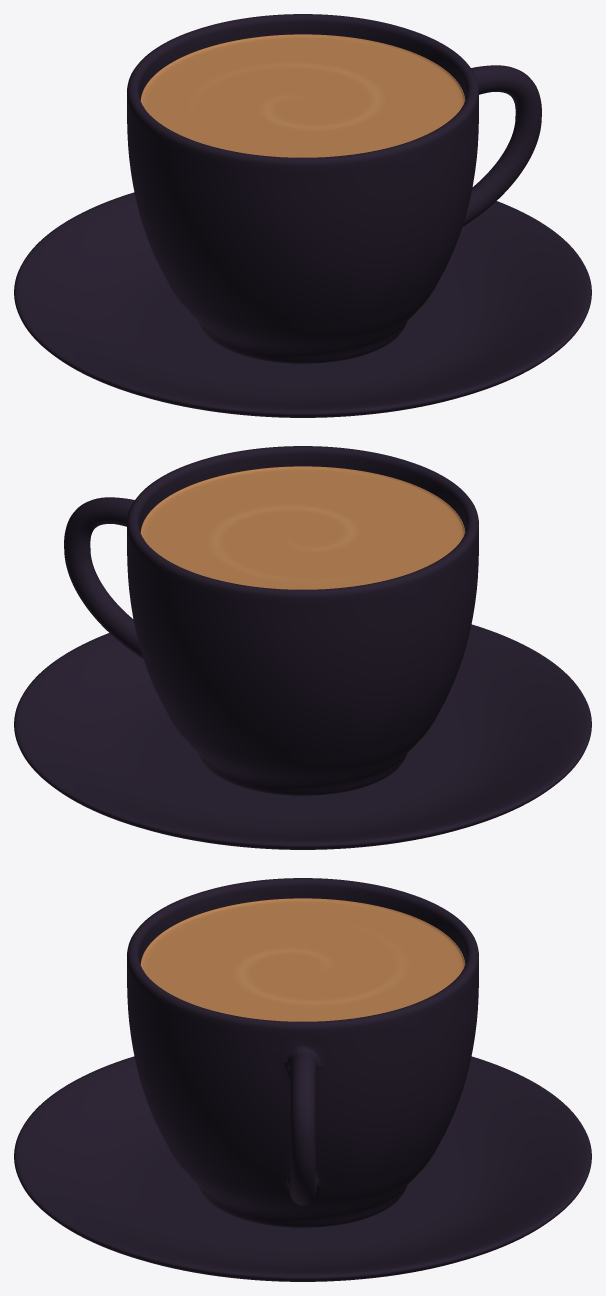
Rendered from exclusive-tea.glb.
3 views of the same model, one above another, from view 1: azimuth 30°, elevation 25°; view 2: azimuth 150°, elevation 25°; view 3: azimuth 270°, elevation 25° (orthographic).
Visible parts, largest first — view 1: Cup, Saucer, Tea; view 2: Cup, Saucer, Tea; view 3: Cup, Saucer, Tea.
Part boxes in pixels (x1=…): Cup: x1=127, y1=14, x2=541, y2=363; Saucer: x1=14, y1=192, x2=591, y2=417; Tea: x1=140, y1=34, x2=465, y2=157; Cup: x1=64, y1=446, x2=478, y2=795; Saucer: x1=14, y1=624, x2=591, y2=849; Tea: x1=140, y1=466, x2=465, y2=589; Cup: x1=127, y1=878, x2=478, y2=1227; Saucer: x1=14, y1=1056, x2=591, y2=1281; Tea: x1=140, y1=898, x2=465, y2=1021.
Size of the model in its own units: 0.1641 by 0.0777 by 0.1641.
2 materials, 1 textured.
